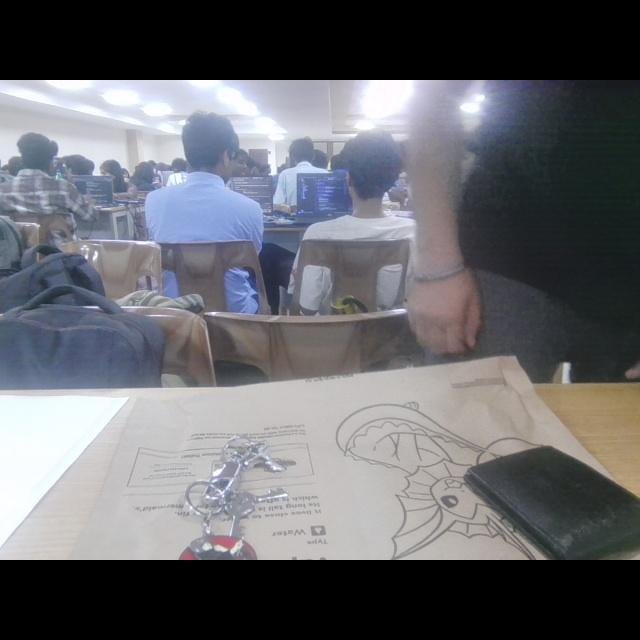keys: (175, 432, 308, 560)
wallet: (458, 436, 640, 560)
